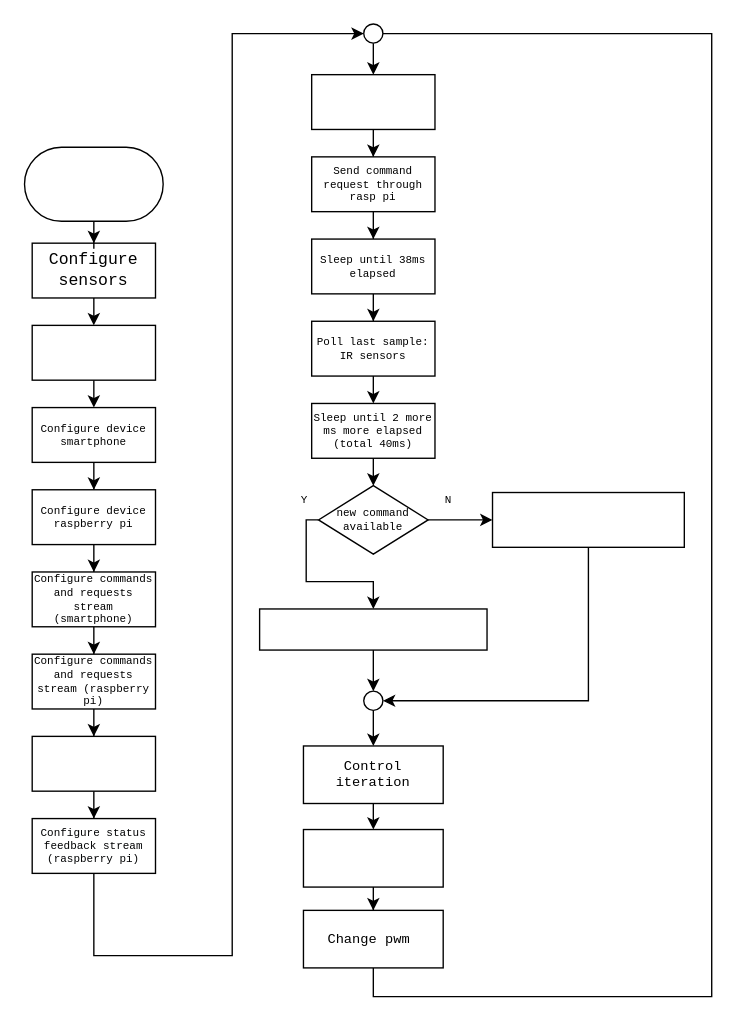
Image size: 747x1032. Some labels were removed from this diagram. The centre of each missing label's shape, as x and y in pixels:
"Configure motors" goes at (93,352).
"Configure status feedback stream (smartphone)" goes at (93,763).
"Control thread start" goes at (93,183).
"ref_speed <- last_ref_speed ref_angle <- last_ref_angle" goes at (587,519).
"ref_speed <- received reference speed ref_angle <- received reference angle" goes at (372,629).
"Send command request directly to smartphone" goes at (372,101).
"Sleep until 10 more ms elapsed (total 50ms)" goes at (372,857).
